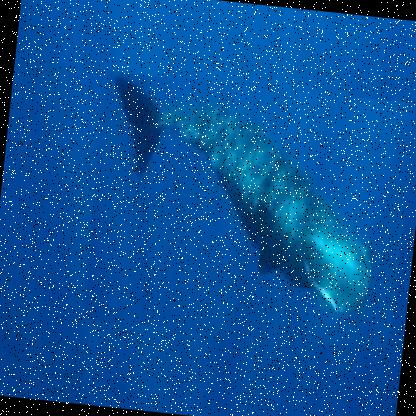colossal_squid: (81, 70, 415, 352)
